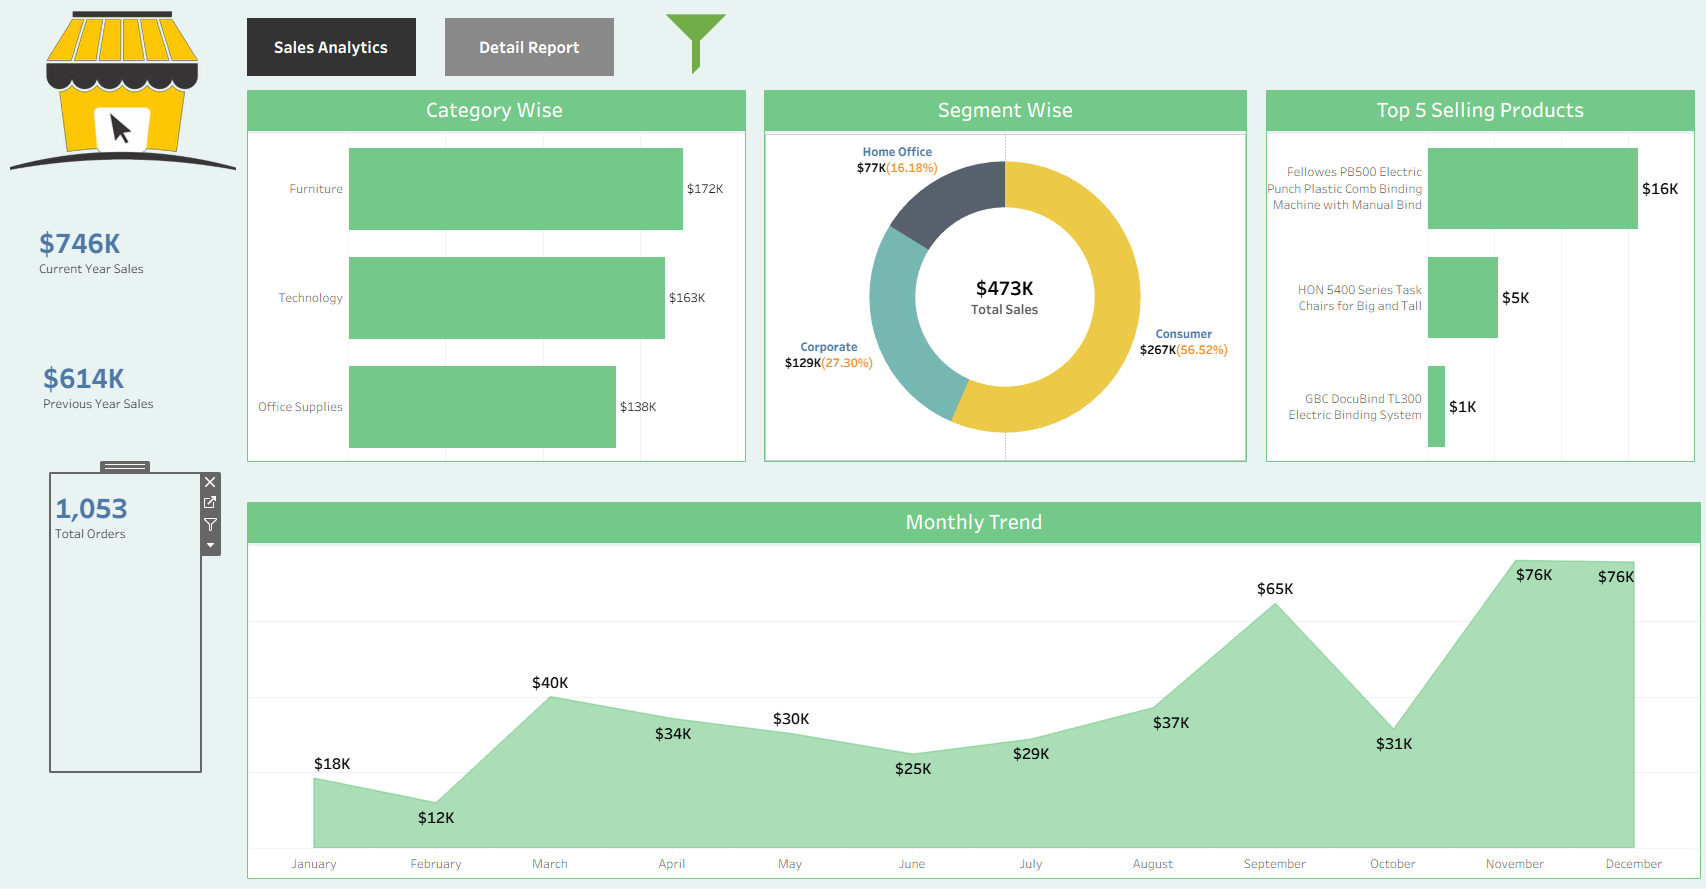

Layout of this report page (visuals, bound fields, positions):
{"tool":"tableau","page":{"name":"Dashboard 1","canvas":[1000,1000],"units":"permille","ordinal":0},"visuals":[{"type":"filter","title":"Sheet 2","param":"[federated.0k6o3oz0nbrleh19qlaxq0x7xair].[none:Region:nk]","box":[448.4,3.8,333.1,111.1]},{"type":"dashboard-object","box":[370.6,6.2,77.9,92.4]},{"type":"image","param":"Image/Picture1.png","box":[7.9,10,132.2,333.3]},{"type":"dashboard-object","box":[146.1,23.7,99,64.9]},{"type":"dashboard-object","box":[261.9,23.7,99,64.9]},{"type":"worksheet","title":"Sheet 1","mark":"Automatic","rows":["Category"],"cols":["Sales"],"box":[146.1,104.9,292.1,417]},{"type":"worksheet","title":"Sheet 2","mark":"Pie","cols":["Calculation_2178053396900335616","Calculation_2178053396900335616"],"box":[449,104.9,282.4,417]},{"type":"worksheet","title":"Sheet 2 (2)","mark":"Bar","rows":["Product Name"],"cols":["Sales"],"box":[742.3,104.9,251.1,417]},{"type":"filter","title":"Sheet 2 (2)","param":"[federated.0k6o3oz0nbrleh19qlaxq0x7xair].[yr:Order Date:ok]","box":[448.4,114.9,333.1,111.1]},{"type":"filter","title":"Sheet 1","param":"[federated.0k6o3oz0nbrleh19qlaxq0x7xair].[none:Category:nk]","box":[448.4,226,333.1,111.1]},{"type":"worksheet","title":"Sheet 6","mark":"Automatic","box":[22.3,238.5,106.2,153.6]},{"type":"worksheet","title":"Sheet 6 (2)","mark":"Automatic","box":[24.7,389.5,114.7,186]},{"type":"worksheet","title":"Sheet 6 (3)","mark":"Automatic","box":[31.4,535.6,87.5,333.3]},{"type":"worksheet","title":"Sheet 2 (3)","mark":"Area","rows":["Sales"],"cols":["Order Date"],"box":[146.1,566.8,850.9,423.2]}]}

Visuals, with their boxes on the dashboard's canvas, which has no fixed pixel size, in thousandths of its width and height (x1, y1, x2, y2). These are canvas units, not pixel positions in the 1706x889 screenshot, which may show the page scaled, cropped or inside an application window:
"Sheet 2" filter: BBox(448, 4, 782, 115)
dashboard-object: BBox(371, 6, 448, 99)
image: BBox(8, 10, 140, 343)
dashboard-object: BBox(146, 24, 245, 89)
dashboard-object: BBox(262, 24, 361, 89)
"Sheet 1" worksheet: BBox(146, 105, 438, 522)
"Sheet 2" worksheet (Pie marks): BBox(449, 105, 731, 522)
"Sheet 2 (2)" worksheet (Bar marks): BBox(742, 105, 993, 522)
"Sheet 2 (2)" filter: BBox(448, 115, 782, 226)
"Sheet 1" filter: BBox(448, 226, 782, 337)
"Sheet 6" worksheet: BBox(22, 238, 128, 392)
"Sheet 6 (2)" worksheet: BBox(25, 390, 139, 576)
"Sheet 6 (3)" worksheet: BBox(31, 536, 119, 869)
"Sheet 2 (3)" worksheet (Area marks): BBox(146, 567, 997, 990)
